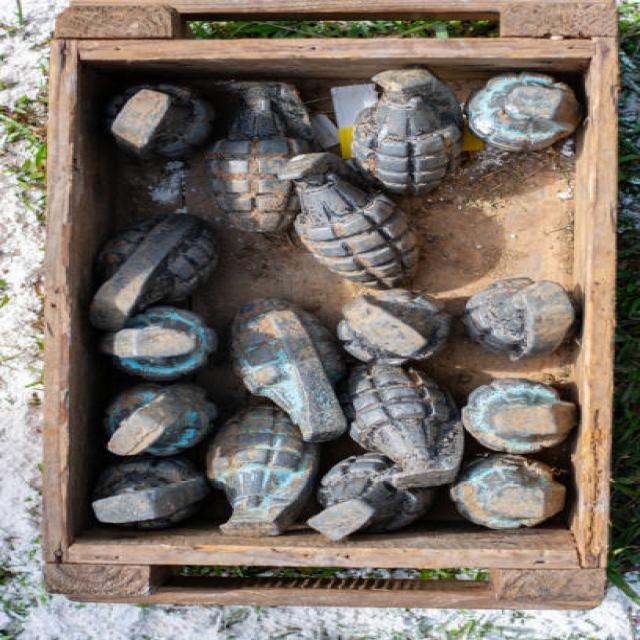grenade: (279, 153, 423, 285), (345, 361, 470, 497), (204, 78, 315, 231), (198, 406, 322, 539), (83, 222, 227, 324), (352, 68, 456, 198)
